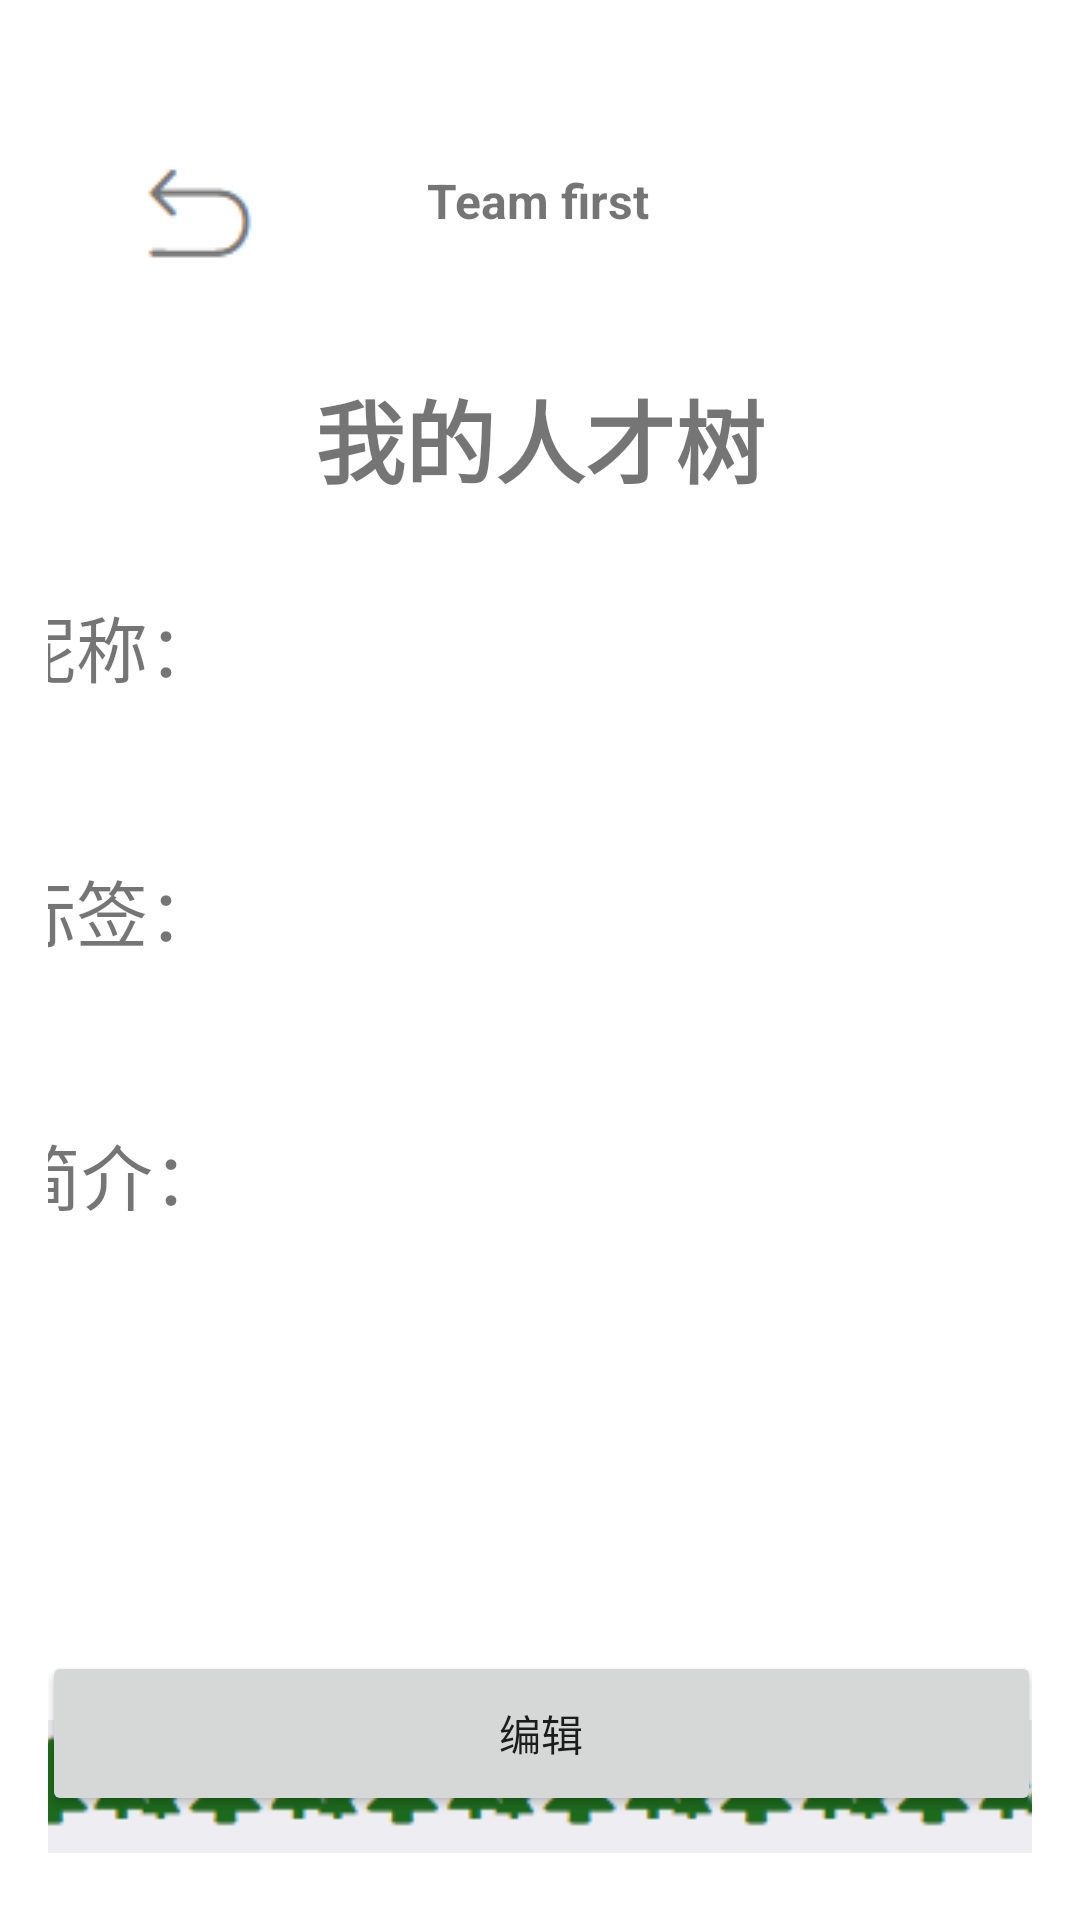

Icon click points for this 1080px x 1920px phone screenshot, format [x,y]:
back: [200,213]
